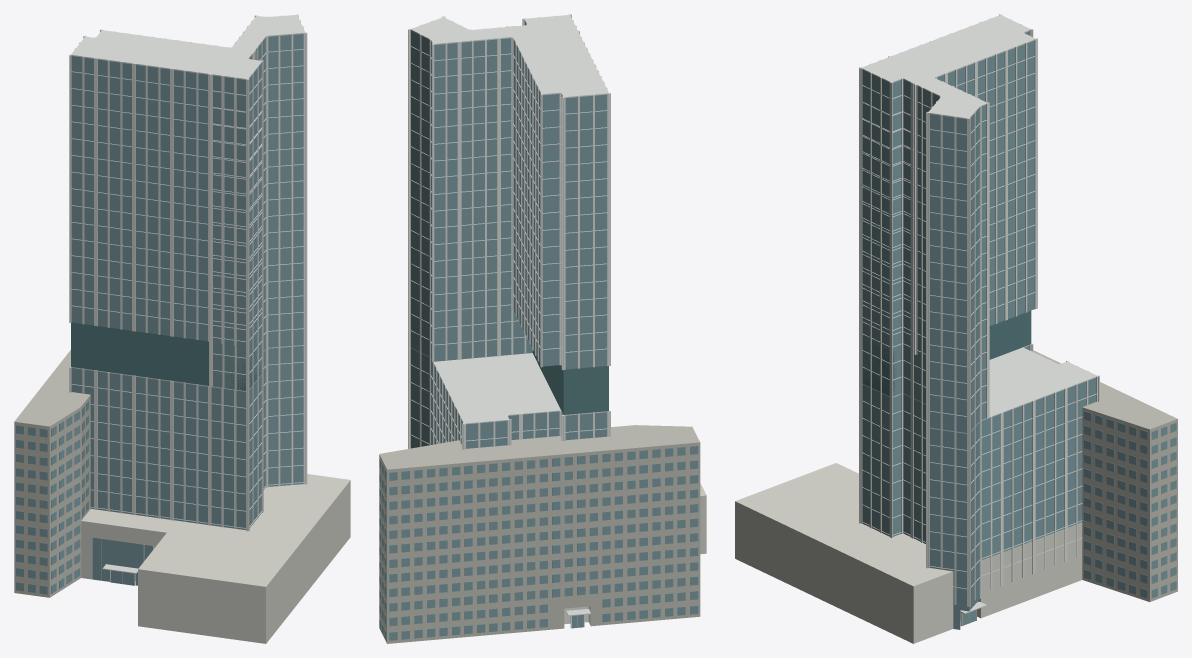
Rendered from hotel_icon.glb.
3 renders of one model, left to right at view 1: azimuth 30°, elevation 25°; view 2: azimuth 150°, elevation 25°; view 3: azimuth 270°, elevation 25°, orthographic.
Visible parts, largest first — view 1: DETAIL_window_batch_ICON_aluminium, ICON_main_hotel_slab, ICON_conference_podium, ICON_teaching_block, ICON_vertical_core, ICON_UniversityHouse, ICON_sky_level_recess, DETAIL_window_batch_ICON_curtain_glass, ICON_hotel_roof, ICON_core_roof, ICON_hotel_entry_glazing_upper; view 2: ICON_UniversityHouse, ICON_vertical_core, DETAIL_window_batch_ICON_aluminium, DETAIL_window_batch_ICON_curtain_glass, ICON_main_hotel_slab, ICON_teaching_roof, ICON_teaching_block, ICON_hotel_roof, ICON_sky_level_recess, ICON_core_roof; view 3: DETAIL_window_batch_ICON_aluminium, ICON_conference_podium, ICON_teaching_block, ICON_vertical_core, ICON_main_hotel_slab, ICON_UniversityHouse, DETAIL_window_batch_ICON_curtain_glass, ICON_hotel_roof, ICON_teaching_roof, ICON_core_roof, ICON_sky_level_recess.
Part boxes in pixels (x1,y1,x2,y2): DETAIL_window_batch_ICON_aluminium: [69, 14, 307, 580]; ICON_main_hotel_slab: [71, 55, 261, 343]; ICON_conference_podium: [81, 474, 350, 643]; ICON_teaching_block: [71, 346, 303, 529]; ICON_vertical_core: [213, 34, 303, 390]; ICON_UniversityHouse: [14, 350, 90, 597]; ICON_sky_level_recess: [71, 322, 261, 390]; DETAIL_window_batch_ICON_curtain_glass: [16, 400, 88, 594]; ICON_hotel_roof: [71, 30, 261, 79]; ICON_core_roof: [212, 15, 305, 79]; ICON_hotel_entry_glazing_upper: [92, 537, 152, 568]; ICON_UniversityHouse: [379, 425, 700, 643]; ICON_vertical_core: [411, 31, 532, 361]; DETAIL_window_batch_ICON_aluminium: [408, 14, 610, 449]; DETAIL_window_batch_ICON_curtain_glass: [379, 446, 698, 640]; ICON_main_hotel_slab: [513, 21, 606, 369]; ICON_teaching_roof: [411, 347, 606, 424]; ICON_teaching_block: [411, 348, 606, 448]; ICON_hotel_roof: [508, 15, 608, 97]; ICON_sky_level_recess: [532, 350, 608, 414]; ICON_core_roof: [411, 15, 577, 44]; DETAIL_window_batch_ICON_aluminium: [859, 14, 1099, 606]; ICON_conference_podium: [735, 463, 1082, 643]; ICON_teaching_block: [862, 346, 1096, 606]; ICON_vertical_core: [862, 76, 986, 432]; ICON_main_hotel_slab: [862, 31, 1034, 352]; ICON_UniversityHouse: [1033, 350, 1177, 601]; DETAIL_window_batch_ICON_curtain_glass: [1084, 411, 1176, 598]; ICON_hotel_roof: [863, 15, 1035, 83]; ICON_teaching_roof: [862, 345, 1097, 433]; ICON_core_roof: [861, 57, 986, 119]; ICON_sky_level_recess: [862, 310, 1031, 396].
Bounding box in the file's own units: 72.71 × 114 × 89.24.
